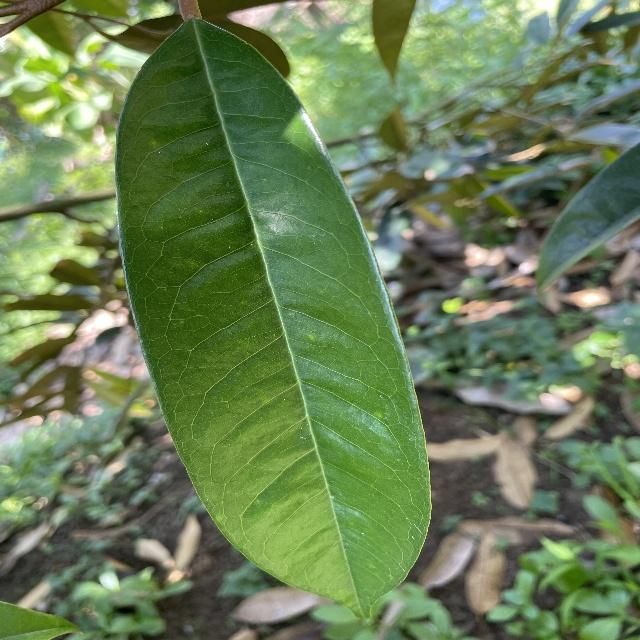No Disease: (109, 13, 441, 623)
